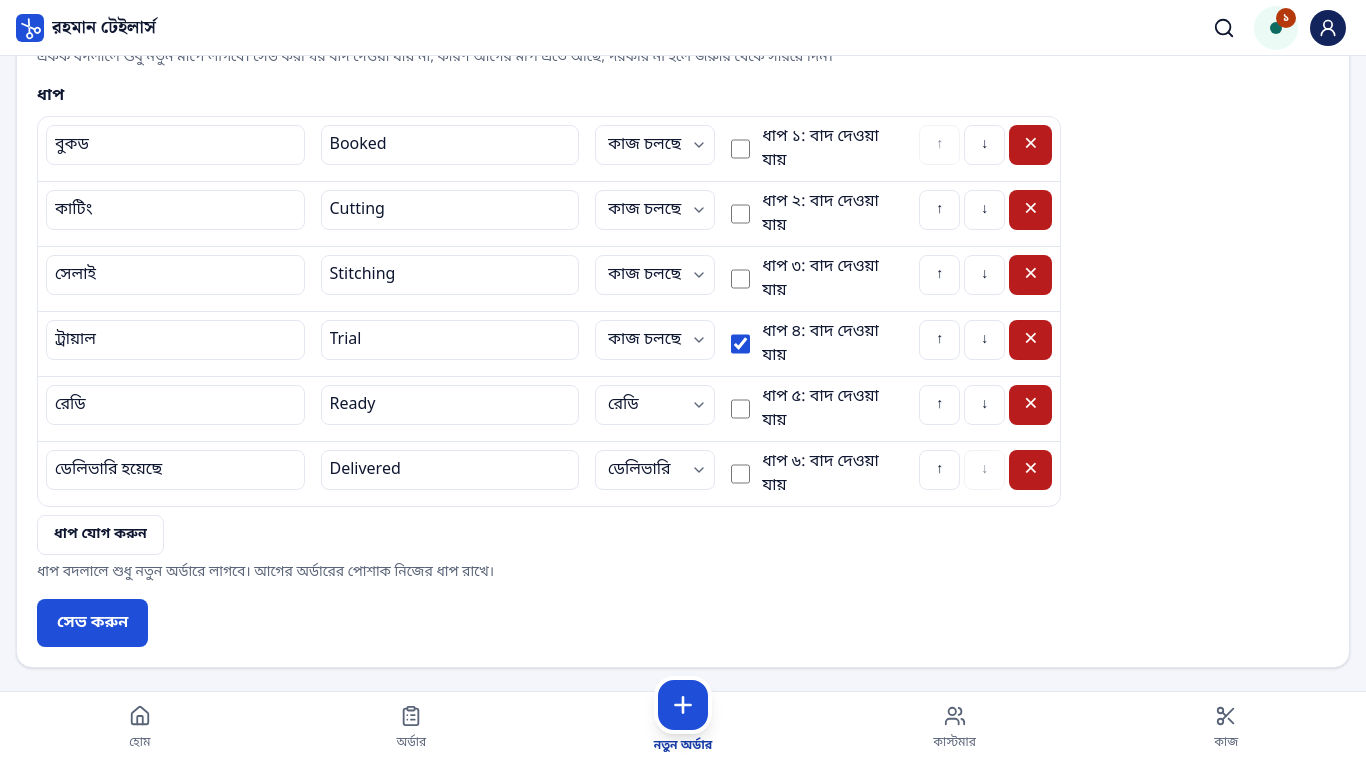
it: Template editor on a phone › explains a stage list that would break tracking, and saves nothing
(page scrolled)
Step 1. Select "কাজ চলছে" in the dropdown named "ধাপ ৫: ধরন" → (655, 405), box x1=595 y1=385 x2=715 y2=425
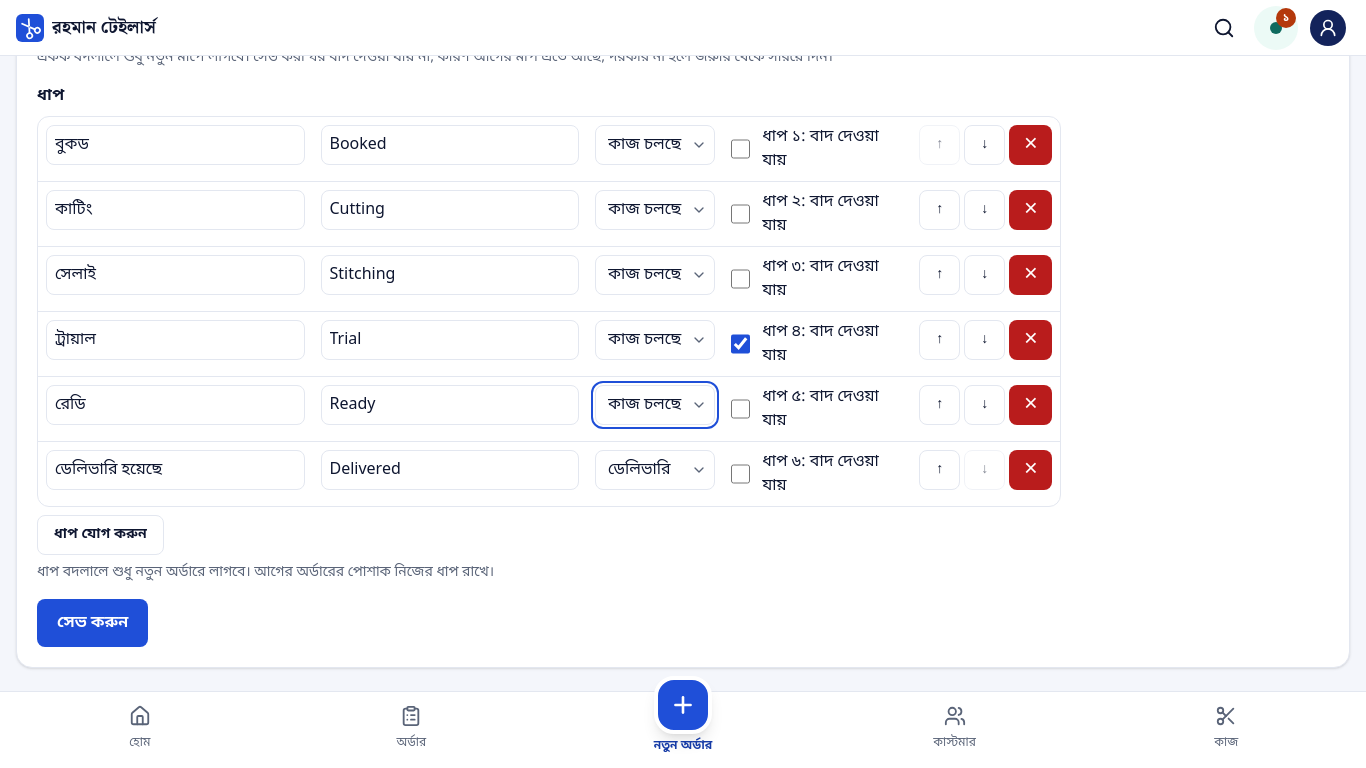
Step 2. Click the button "সেভ করুন" → (93, 623), box x1=37 y1=599 x2=148 y2=647
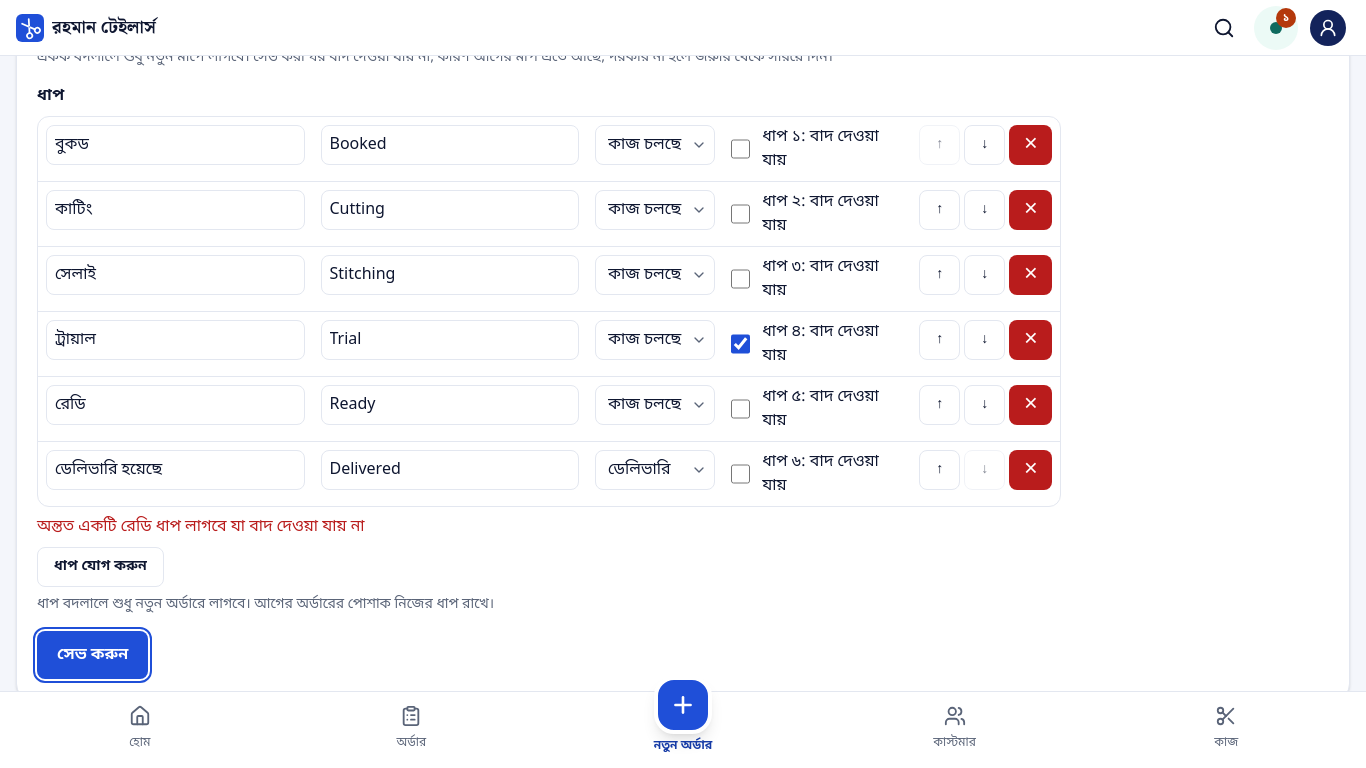
Result: the text "অন্তত একটি রেডি ধাপ লাগবে যা বাদ দেওয়া যায় না" is shown at x1=37 y1=516 x2=365 y2=538
